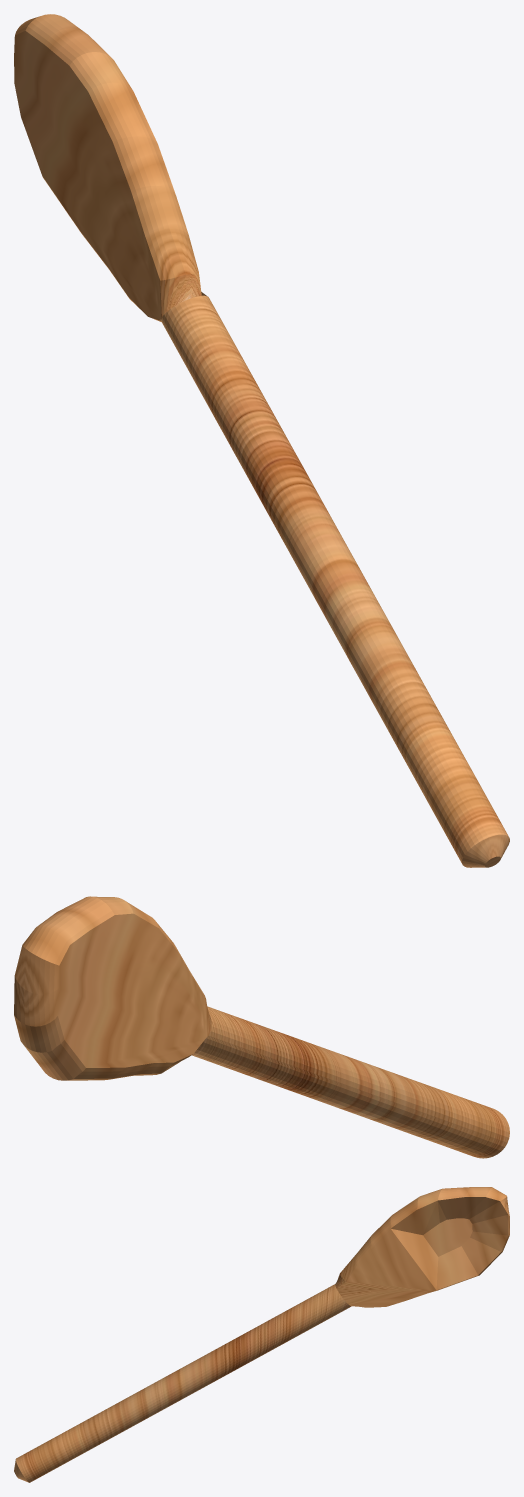
File: spoom.fbx
The picture shows the model from 3 angles, top to bottom: view 1: azimuth 30°, elevation 25°; view 2: azimuth 150°, elevation 25°; view 3: azimuth 270°, elevation 25°; orthographic projection. The views are drawn at different scales.
Parts seen in each view (by area): view 1: Cube; view 2: Cube; view 3: Cube.
Boxes of the visible parts, x1=… form: Cube: x1=14, y1=14, x2=509, y2=867; Cube: x1=14, y1=896, x2=509, y2=1158; Cube: x1=14, y1=1187, x2=509, y2=1482.
Bounding box in the file's own units: 28.08 × 281 × 433.
